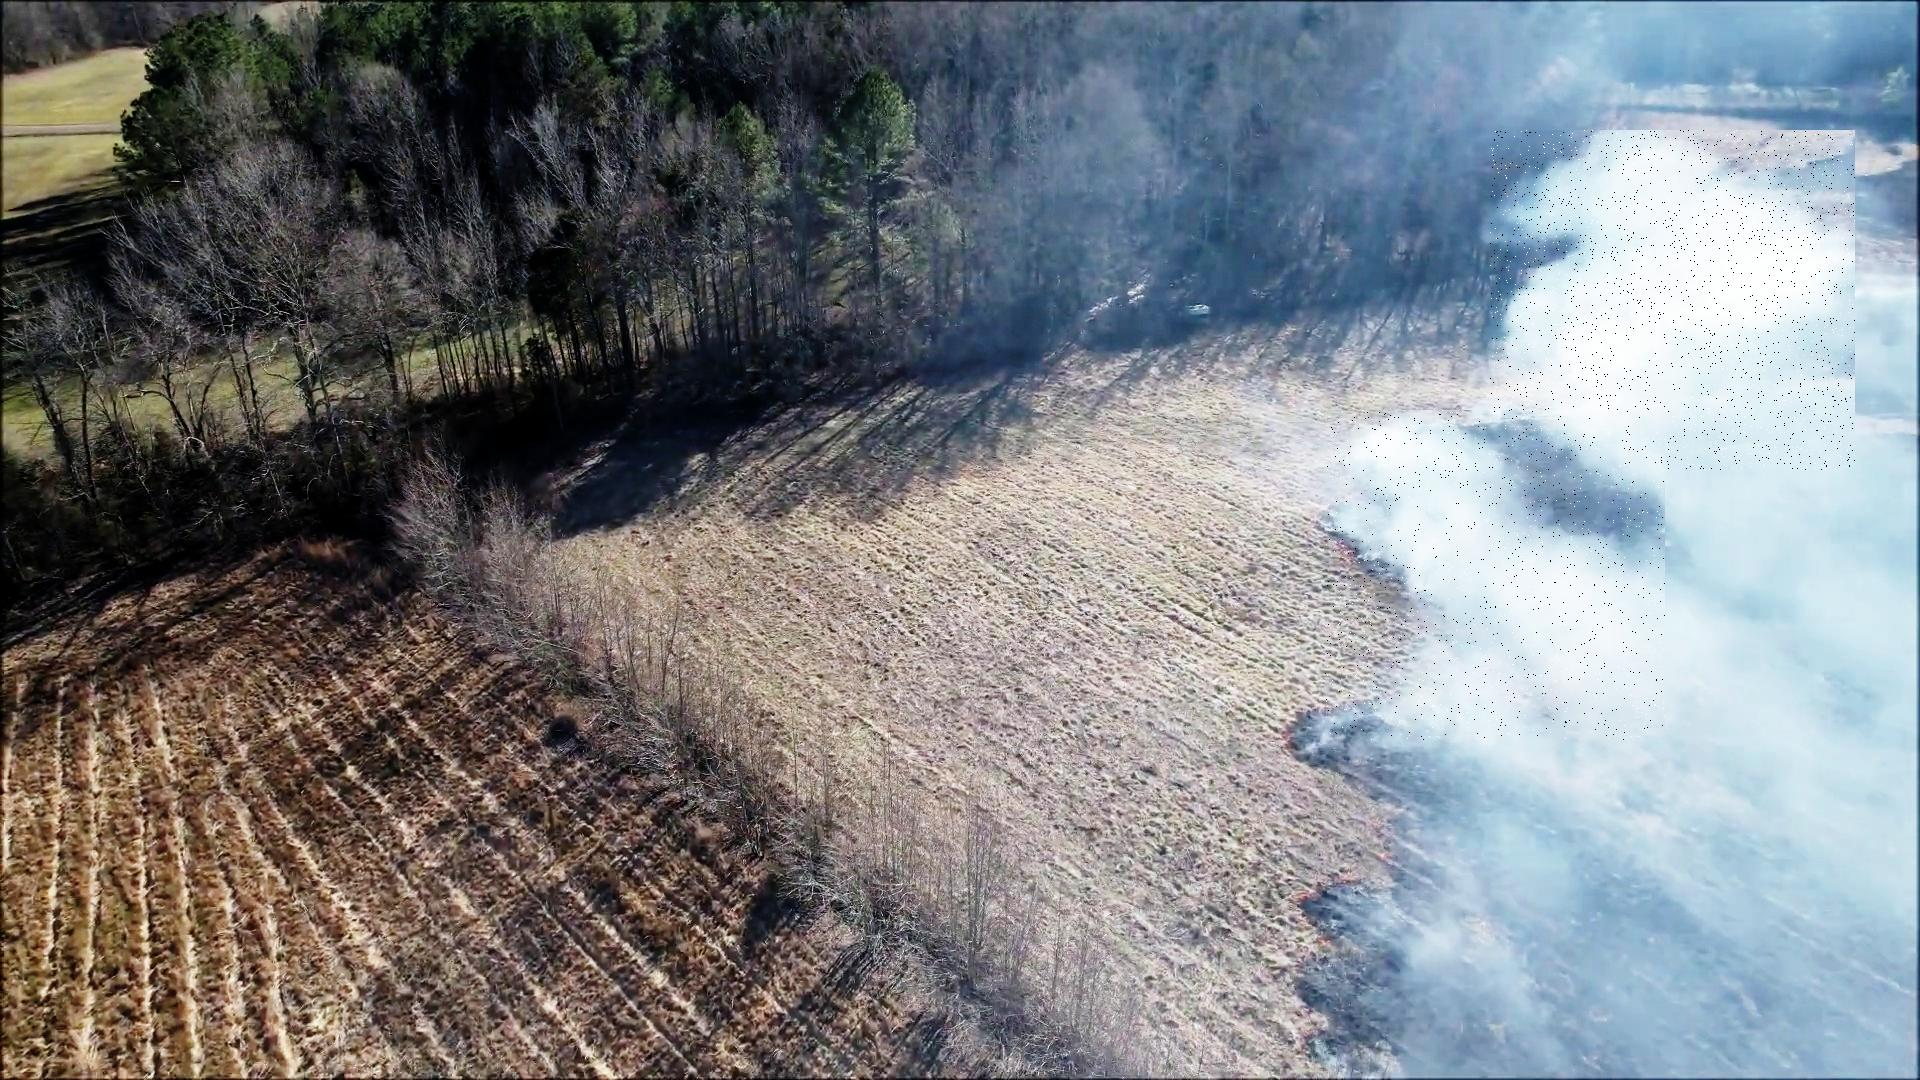smoke: (1490, 131, 1855, 469), (1325, 410, 1665, 740)
